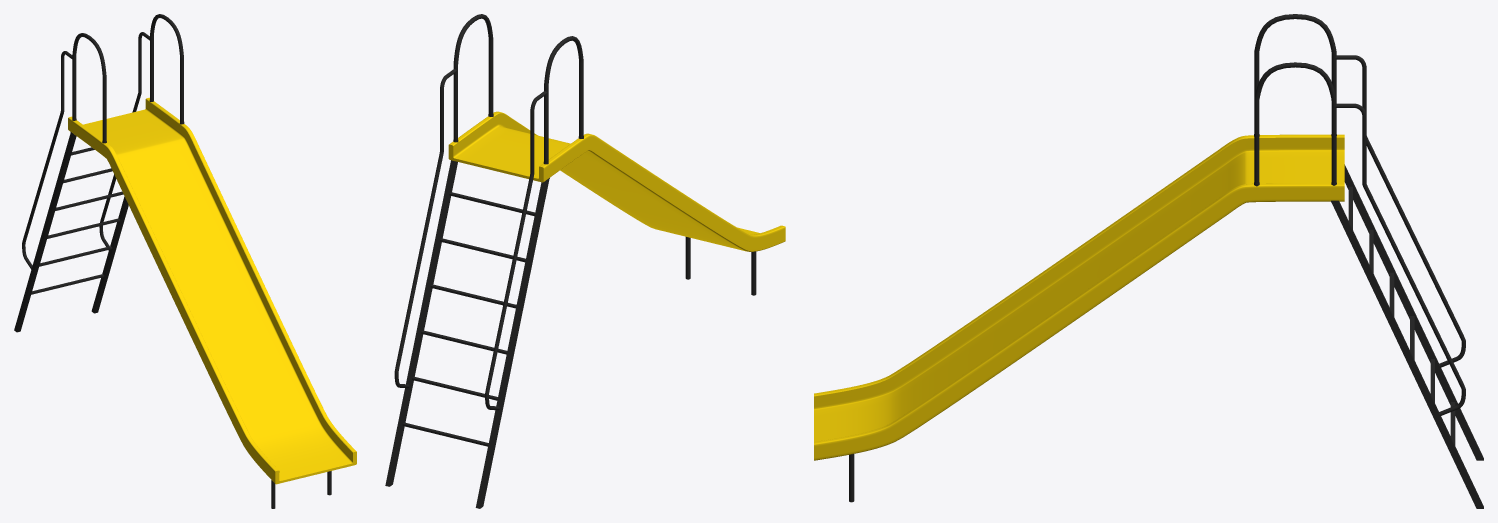
File: freepolygon (022).FBX.FBX
The picture shows the model from 3 angles, left to right: view 1: azimuth 30°, elevation 25°; view 2: azimuth 150°, elevation 25°; view 3: azimuth 270°, elevation 25°; orthographic projection. The views are drawn at different scales.
Parts seen in each view (by area): view 1: freepolygon.com; view 2: freepolygon.com; view 3: freepolygon.com.
Part boxes in pixels (x1,y1,x2,y2): freepolygon.com: (14,14,356,508); freepolygon.com: (385,14,785,508); freepolygon.com: (814,14,1483,508).
Bounding box in the file's own units: 13.42 × 54.56 × 74.41.
